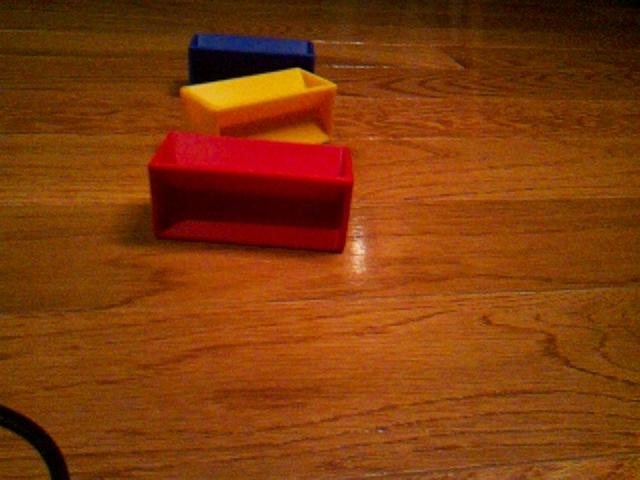blue: (187, 31, 317, 85)
red: (147, 128, 355, 254)
yellow: (179, 66, 338, 144)
